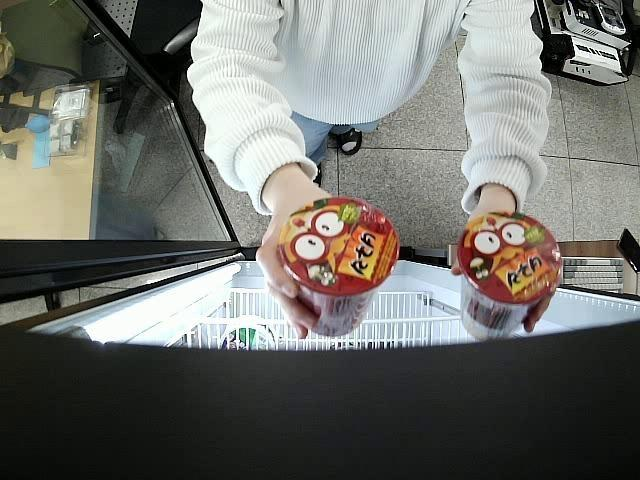06_nuguri_S: (276, 196, 402, 338), (456, 212, 562, 334)
